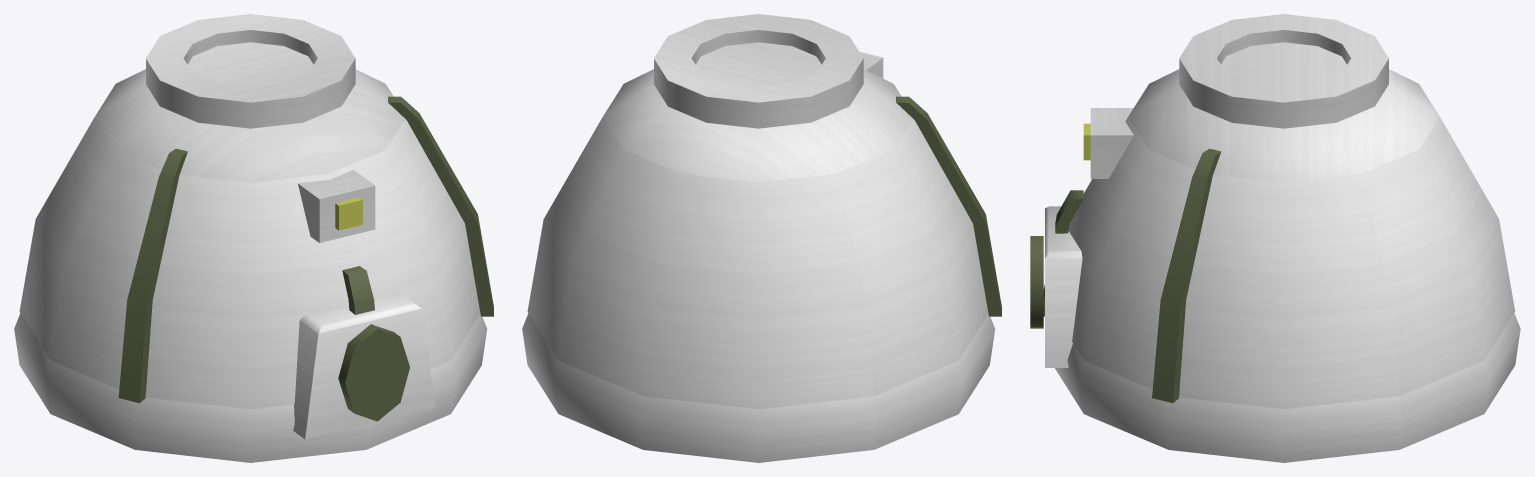
Rendered from mech_high_shield.obj.
The picture shows the model from 3 angles, left to right: view 1: azimuth 30°, elevation 25°; view 2: azimuth 150°, elevation 25°; view 3: azimuth 270°, elevation 25°; orthographic projection.
Visible parts, largest first — view 1: source_component_001, source_component_000, source_component_007, source_component_005, source_component_002, source_component_006, source_component_008, source_component_004, source_component_009, source_component_003, source_component_010; view 2: source_component_001, source_component_000, source_component_007, source_component_008, source_component_002; view 3: source_component_001, source_component_000, source_component_007, source_component_004, source_component_005, source_component_008, source_component_009, source_component_006, source_component_003.
Part boxes in pixels (bbox=[...]): source_component_001: bbox=[19, 69, 480, 409]; source_component_000: bbox=[14, 313, 487, 462]; source_component_007: bbox=[146, 14, 355, 128]; source_component_005: bbox=[293, 292, 435, 439]; source_component_002: bbox=[118, 148, 187, 402]; source_component_006: bbox=[338, 324, 409, 421]; source_component_008: bbox=[187, 42, 313, 86]; source_component_004: bbox=[388, 96, 493, 316]; source_component_009: bbox=[298, 170, 375, 242]; source_component_003: bbox=[342, 266, 374, 314]; source_component_010: bbox=[335, 197, 362, 230]; source_component_001: bbox=[527, 69, 988, 409]; source_component_000: bbox=[522, 313, 995, 462]; source_component_007: bbox=[654, 14, 863, 128]; source_component_008: bbox=[695, 42, 821, 86]; source_component_002: bbox=[896, 96, 1001, 316]; source_component_001: bbox=[1068, 69, 1515, 409]; source_component_000: bbox=[1055, 313, 1520, 462]; source_component_007: bbox=[1179, 14, 1388, 128]; source_component_004: bbox=[1152, 148, 1221, 402]; source_component_005: bbox=[1045, 206, 1082, 367]; source_component_008: bbox=[1221, 42, 1346, 86]; source_component_009: bbox=[1090, 108, 1133, 178]; source_component_006: bbox=[1030, 236, 1043, 328]; source_component_003: bbox=[1043, 190, 1083, 316].
Size of the model in its own units: 0.88 by 0.63 by 0.912.
